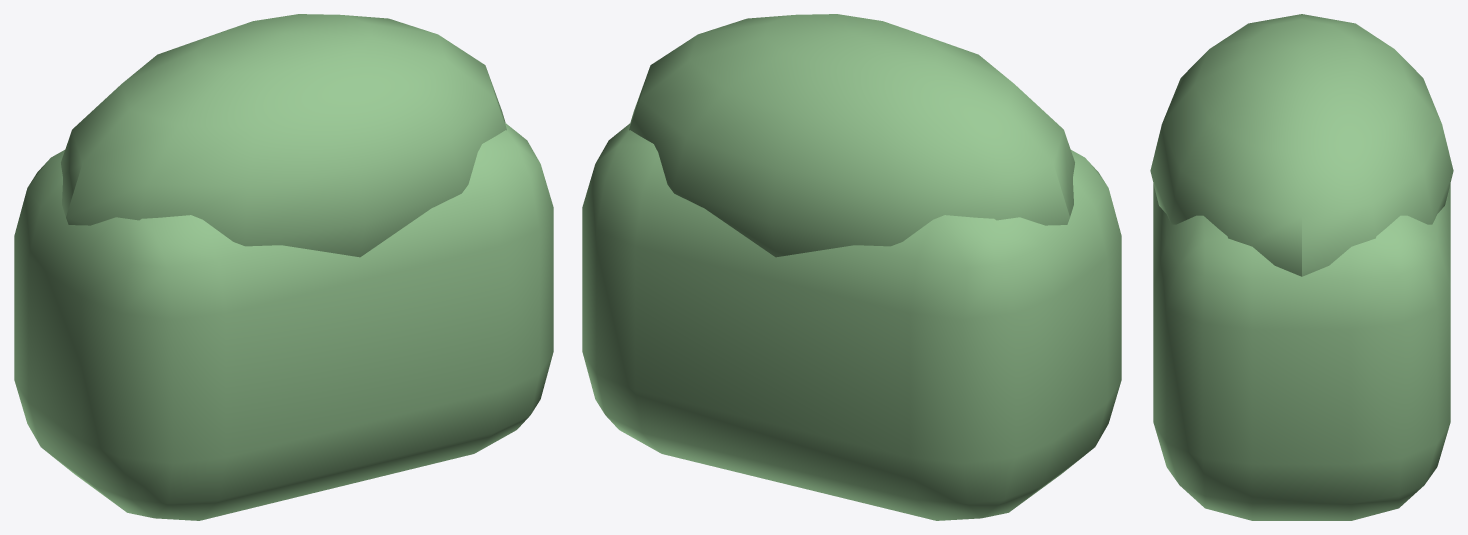
Rendered from hedge.glb.
The picture shows the model from 3 angles, left to right: view 1: azimuth 30°, elevation 25°; view 2: azimuth 150°, elevation 25°; view 3: azimuth 270°, elevation 25°; orthographic projection. The views are drawn at different scales.
Parts seen in each view (by area): view 1: hedge; view 2: hedge; view 3: hedge.
Boxes of the visible parts, bbox=[...] form: hedge: bbox=[14, 14, 553, 520]; hedge: bbox=[582, 14, 1121, 520]; hedge: bbox=[1150, 14, 1453, 520].
Size of the model in its own units: 1 by 0.892 by 0.612.
